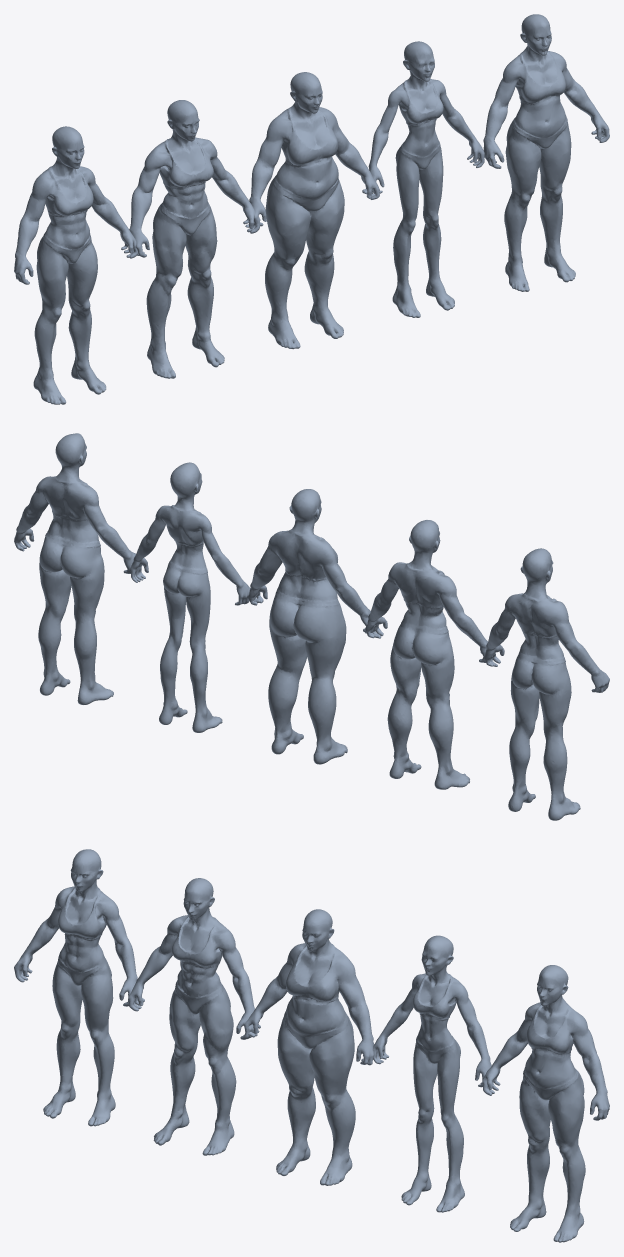
File: female_body_types.glb
3 views of the same model, one above another, from view 1: azimuth 30°, elevation 25°; view 2: azimuth 150°, elevation 25°; view 3: azimuth 330°, elevation 25° (orthographic).
Parts seen in each view (by area): view 1: female_heavyset_obese, female_muscular, female_soft_belly, female_lean, female_slim; view 2: female_heavyset_obese, female_soft_belly, female_muscular, female_lean, female_slim; view 3: female_heavyset_obese, female_soft_belly, female_muscular, female_lean, female_slim.
Boxes of the visible parts, x1,y1,x2,y2 form: female_heavyset_obese: [249, 72, 379, 349]; female_muscular: [129, 100, 260, 378]; female_soft_belly: [483, 14, 609, 291]; female_lean: [14, 126, 138, 404]; female_slim: [368, 41, 484, 317]; female_heavyset_obese: [248, 489, 378, 764]; female_soft_belly: [14, 433, 135, 704]; female_muscular: [365, 520, 494, 789]; female_lean: [484, 548, 609, 820]; female_slim: [130, 462, 250, 732]; female_heavyset_obese: [244, 909, 374, 1185]; female_soft_belly: [482, 965, 609, 1242]; female_muscular: [128, 878, 258, 1155]; female_lean: [14, 849, 137, 1126]; female_slim: [373, 935, 491, 1212].
Size of the model in its own units: 4.03 by 1.7 by 0.3569.
